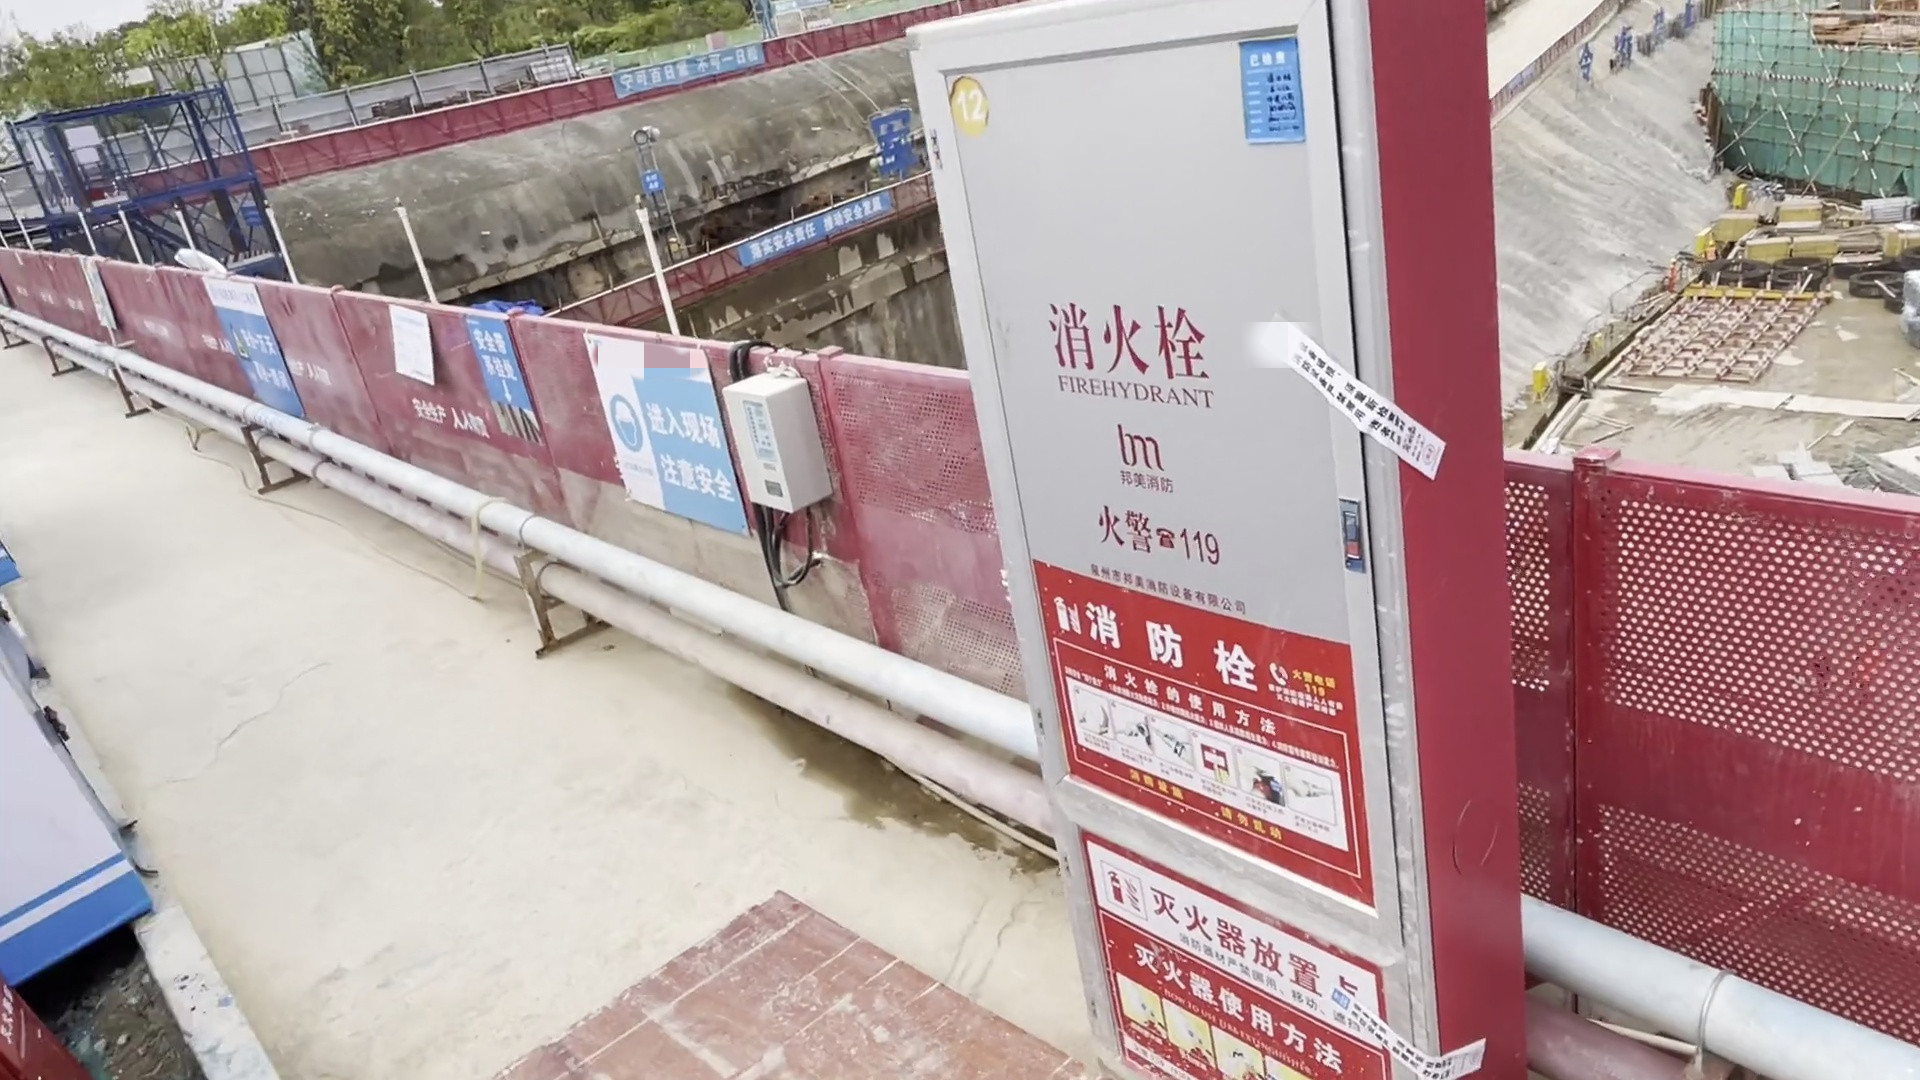board: (452, 880, 1063, 1080)
fence: (1514, 451, 1920, 1033)
slogan: (566, 344, 760, 550), (363, 301, 554, 419), (199, 278, 313, 429), (737, 183, 899, 276), (604, 44, 769, 111)
